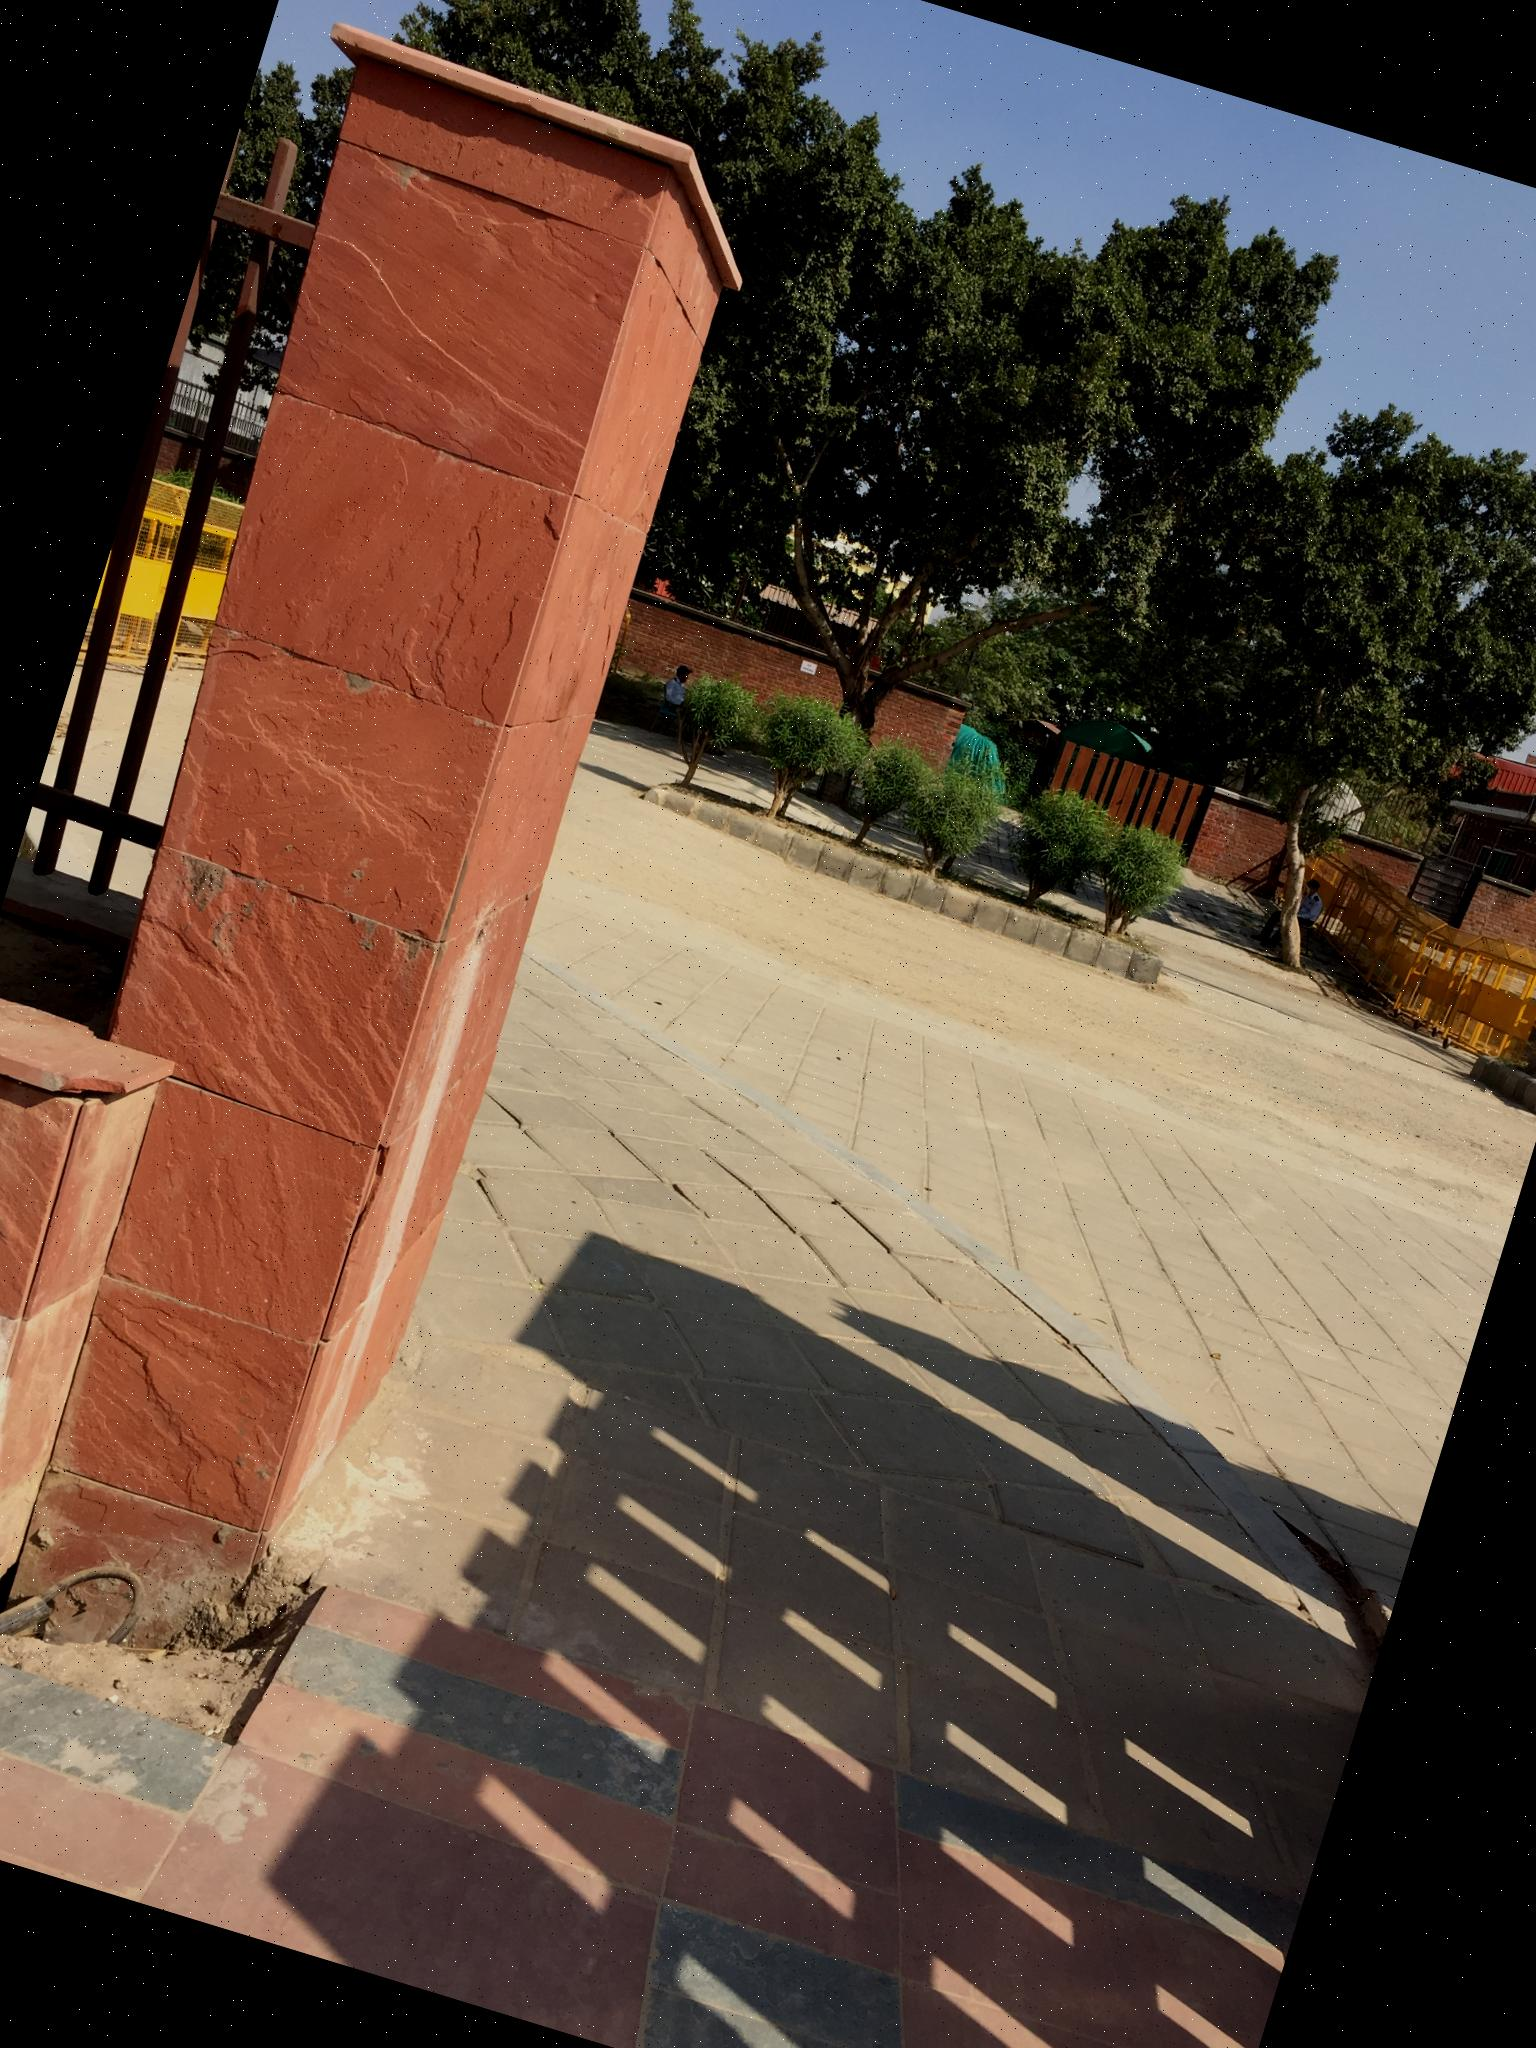chair: (1255, 897, 1331, 963), (645, 682, 697, 743)
